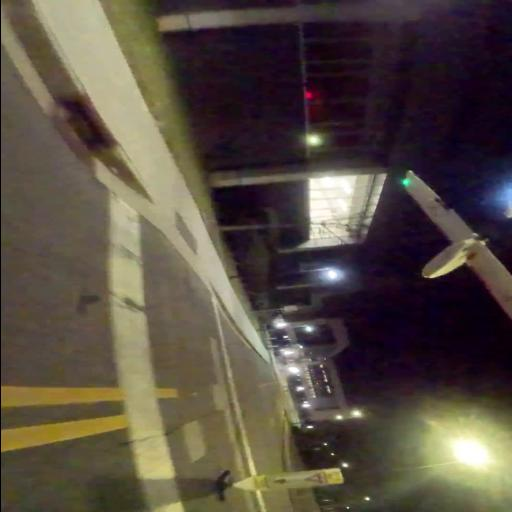uav: (394, 170, 512, 324)
